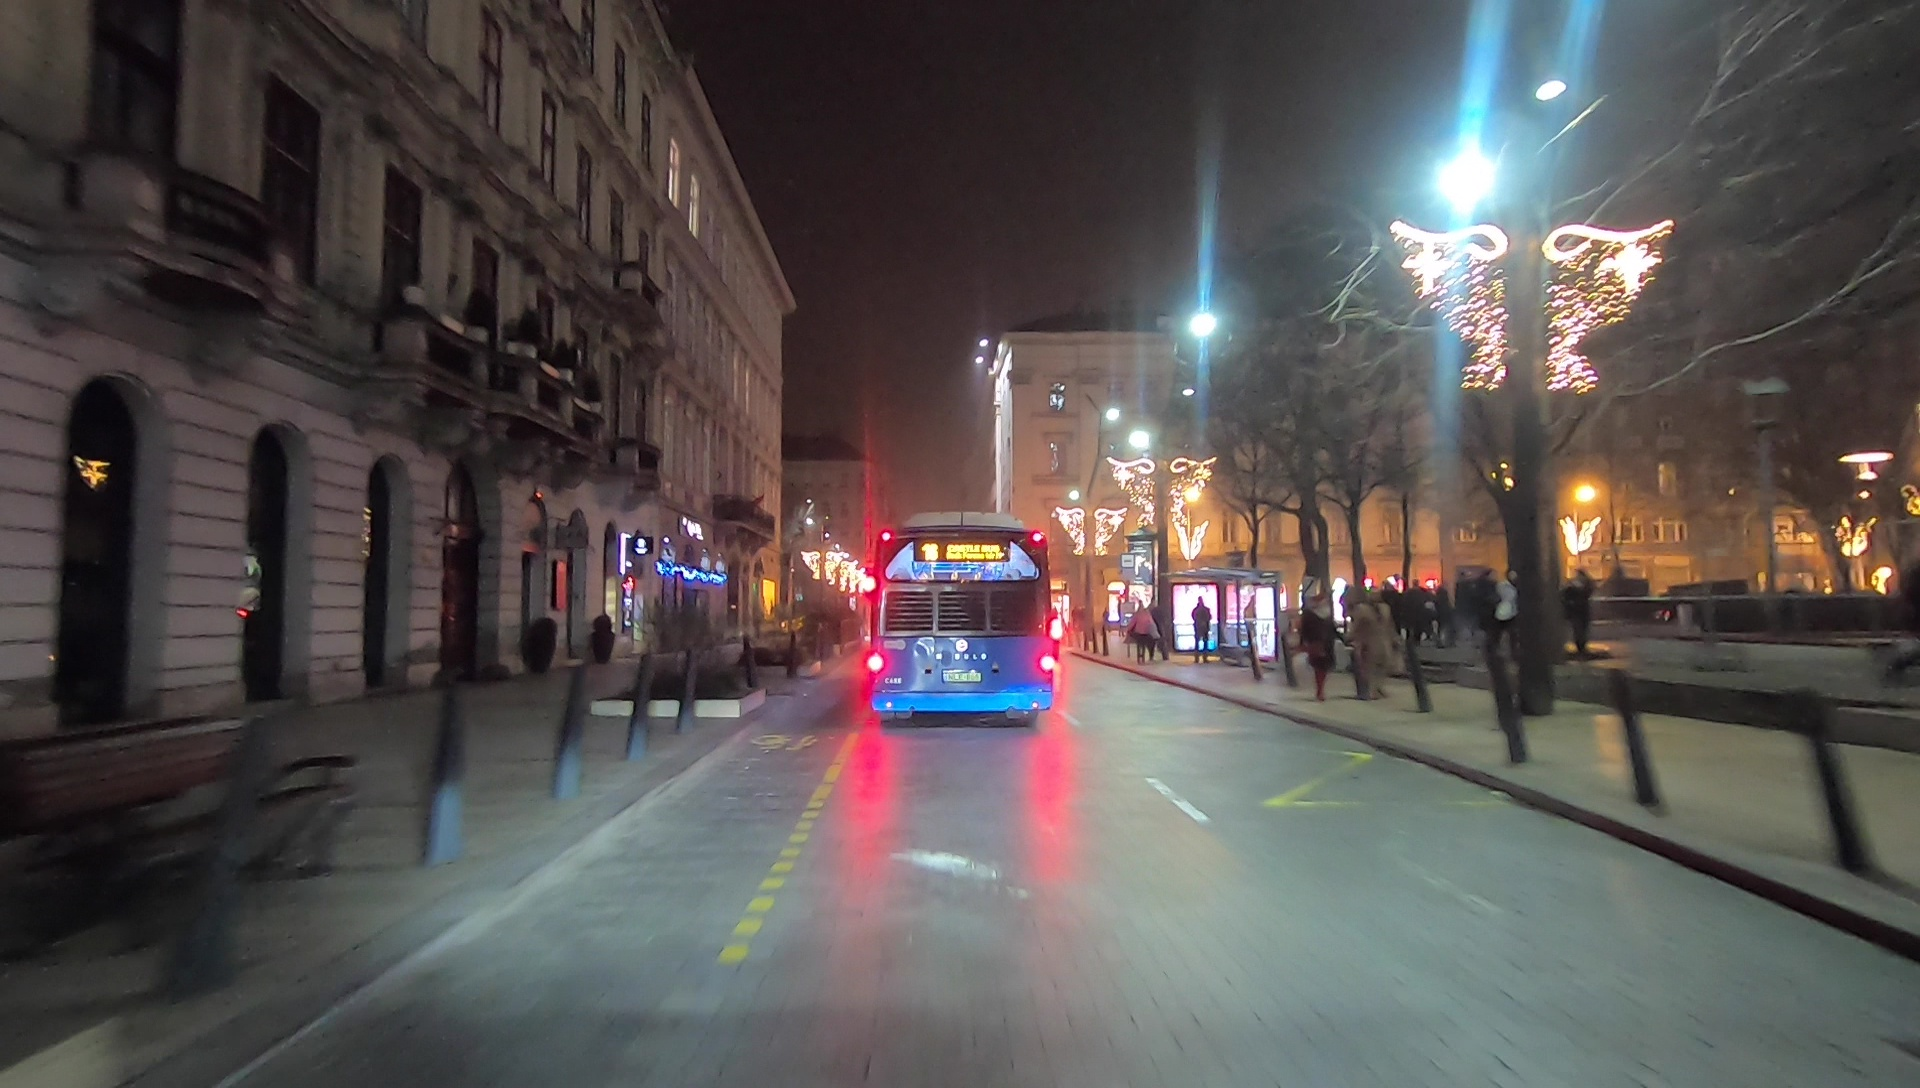person: (1349, 592, 1399, 698), (1304, 589, 1339, 702), (1490, 569, 1522, 658), (1564, 568, 1594, 653), (1129, 599, 1155, 665), (1192, 597, 1211, 664)
